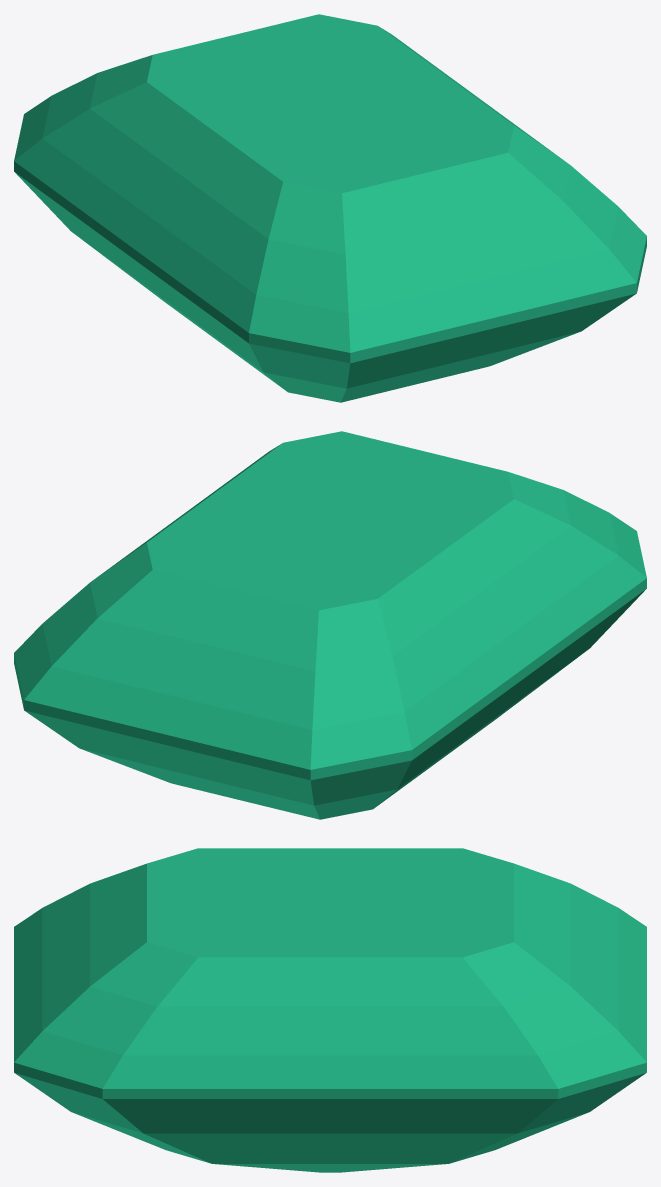
Rendered from colombian-emerald.glb.
3 renders of one model, top to bottom at view 1: azimuth 30°, elevation 25°; view 2: azimuth 150°, elevation 25°; view 3: azimuth 270°, elevation 25°, orthographic. The views are drawn at different scales.
Parts seen in each view (by area): view 1: Colombian Emerald — Emerald Cut; view 2: Colombian Emerald — Emerald Cut; view 3: Colombian Emerald — Emerald Cut.
Boxes of the visible parts, left/top/right/bottom form: Colombian Emerald — Emerald Cut: left=14, top=14, right=646, bottom=402; Colombian Emerald — Emerald Cut: left=14, top=431, right=646, bottom=819; Colombian Emerald — Emerald Cut: left=14, top=848, right=646, bottom=1172.
Bounding box in the file's own units: 2 × 1.32 × 2.84.
